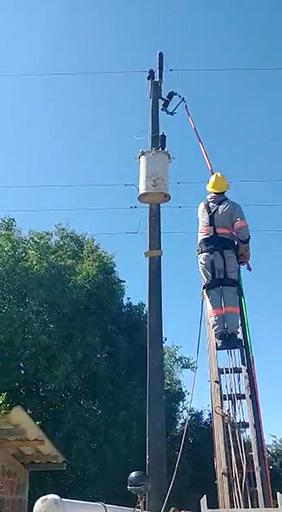Vara_Manobra: (183, 104, 252, 271)
